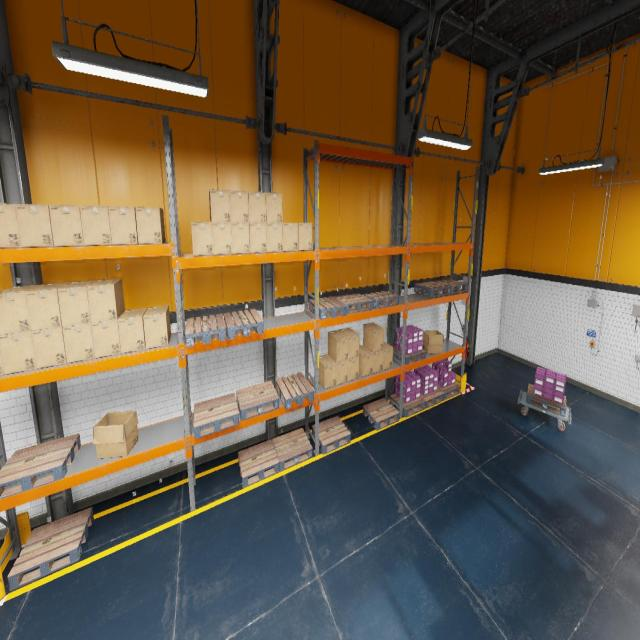box: (93, 410, 138, 459), (26, 282, 70, 331), (0, 284, 42, 335), (57, 280, 97, 326), (86, 278, 125, 322), (15, 204, 54, 247), (0, 331, 36, 374), (31, 326, 67, 368), (49, 204, 84, 246), (62, 323, 95, 363), (118, 308, 147, 353), (80, 206, 112, 245), (143, 305, 171, 349), (91, 319, 121, 358), (108, 206, 138, 245), (136, 207, 166, 243), (0, 203, 21, 248), (209, 189, 231, 222), (191, 222, 213, 255), (328, 354, 348, 386), (328, 330, 348, 362), (363, 322, 384, 352), (339, 328, 359, 359), (212, 223, 232, 254), (231, 222, 250, 254), (319, 354, 336, 389), (230, 190, 248, 222), (363, 345, 383, 373), (248, 192, 266, 222), (249, 223, 267, 252), (266, 223, 283, 252), (266, 193, 282, 222), (423, 330, 443, 353), (283, 222, 298, 251), (359, 345, 373, 376), (298, 222, 312, 251), (382, 341, 392, 370), (348, 357, 359, 381), (0, 351, 4, 375)
pallets: (7, 506, 94, 590), (0, 433, 81, 499), (193, 393, 239, 439), (238, 439, 279, 488), (236, 380, 279, 421), (272, 428, 312, 471), (312, 415, 351, 454), (275, 372, 314, 409), (185, 314, 226, 348), (526, 384, 566, 417), (224, 308, 264, 339), (363, 398, 399, 430), (308, 297, 346, 319), (390, 394, 425, 417), (333, 294, 373, 314), (364, 291, 399, 309), (393, 345, 426, 364), (414, 281, 450, 297), (433, 279, 468, 293), (420, 388, 444, 408), (438, 382, 460, 400)
